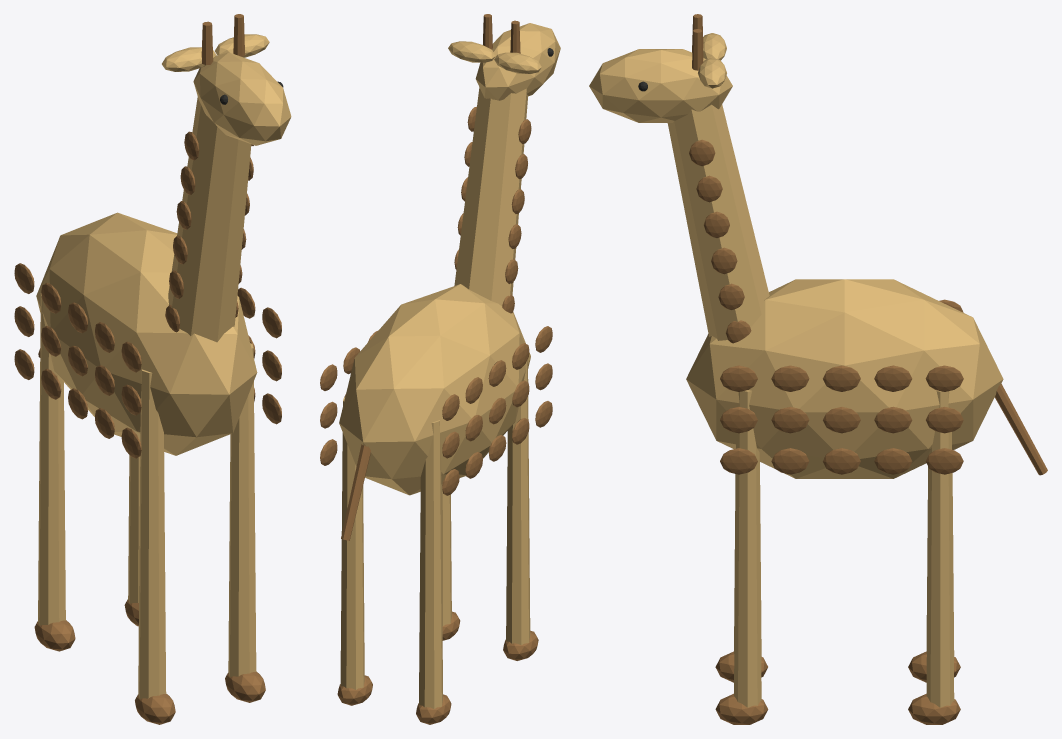
The model's file is zoo-giraffe.glb.
3 renders of one model, left to right at view 1: azimuth 30°, elevation 25°; view 2: azimuth 150°, elevation 25°; view 3: azimuth 270°, elevation 25°, orthographic. The views are drawn at different scales.
Parts seen in each view (by area): view 1: Torso, Long neck, Leg, Leg.002, Leg.001, Head, Leg.003, Hoof.001, Hoof, Hoof.002, Ear, Ear.001 (+15 smaller); view 2: Torso, Long neck, Leg.001, Leg, Leg.003, Head, Leg.002, Tail, Ear, Ear.001, Hoof.001, Hoof.003 (+1 smaller); view 3: Torso, Long neck, Head, Leg.002, Leg.003, Tail, Hoof.002, Hoof.003, Coat patch.024, Coat patch.029, Coat patch.016, Coat patch.017 (+11 smaller).
Part boxes in pixels (x1,y1,x2,y2): Torso: (36,212,257,455); Long neck: (168,97,251,342); Leg: (138,369,166,699); Leg.002: (228,343,256,677); Leg.001: (38,293,65,625); Head: (193,52,291,145); Leg.003: (128,455,140,603); Hoof.001: (34,620,75,651); Hoof: (135,694,175,724); Hoof.002: (225,671,265,702); Ear: (162,47,216,71); Ear.001: (215,34,269,57); Torso: (339,284,530,495); Long neck: (454,87,527,306); Leg.001: (419,420,442,708); Leg: (506,359,530,645); Leg.003: (340,397,364,689); Head: (475,23,560,100); Leg.002: (441,484,451,625); Tail: (341,444,370,540); Ear: (494,52,541,73); Ear.001: (448,41,495,62); Hoof.001: (416,694,451,724); Hoof.003: (337,675,372,705); Torso: (686,279,1003,478); Long neck: (667,104,769,340); Head: (589,49,732,122); Leg.002: (734,390,761,707); Leg.003: (926,390,954,707); Tail: (994,384,1047,475); Hoof.002: (715,693,768,724); Hoof.003: (908,693,960,724); Coat patch.024: (874,448,912,474); Coat patch.029: (925,365,963,391); Coat patch.016: (720,407,757,433); Coat patch.017: (720,365,757,391).
Size of the model in its own units: 1.11 by 5.1 by 3.12.
